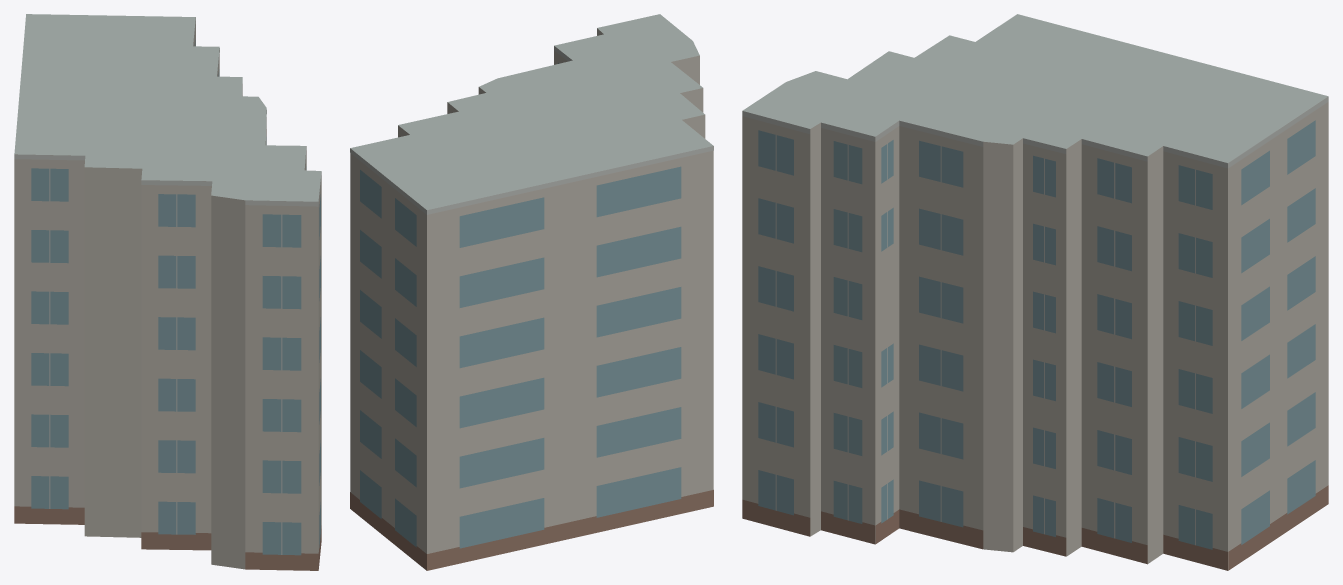
Rendered from survey-upis-32579723.glb.
The picture shows the model from 3 angles, left to right: view 1: azimuth 30°, elevation 25°; view 2: azimuth 150°, elevation 25°; view 3: azimuth 270°, elevation 25°; orthographic projection. The views are drawn at different scales.
Visible parts, largest first — view 1: survey-upis-32579723.tmp; view 2: survey-upis-32579723.tmp; view 3: survey-upis-32579723.tmp.
Boxes of the visible parts, x1,y1,x2,y2 form: survey-upis-32579723.tmp: (14,14,321,570); survey-upis-32579723.tmp: (350,14,713,570); survey-upis-32579723.tmp: (742,14,1328,570).
Bounding box in the file's own units: 14.84 × 18.9 × 24.65.
